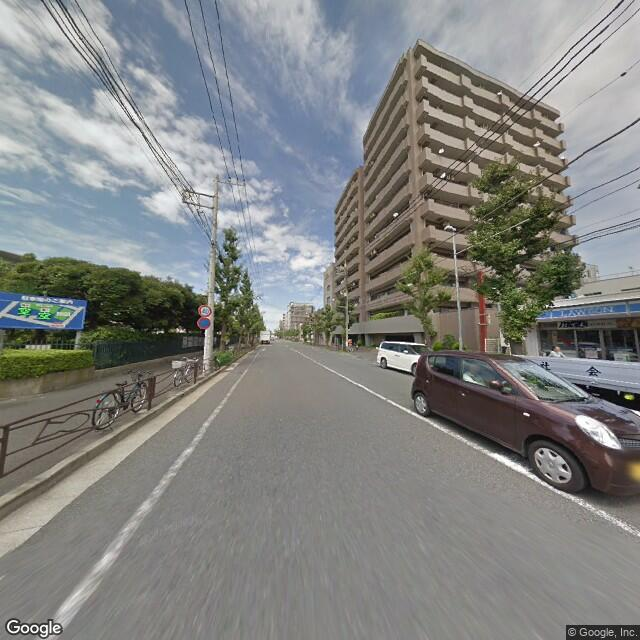lawson: (540, 294, 638, 329)
